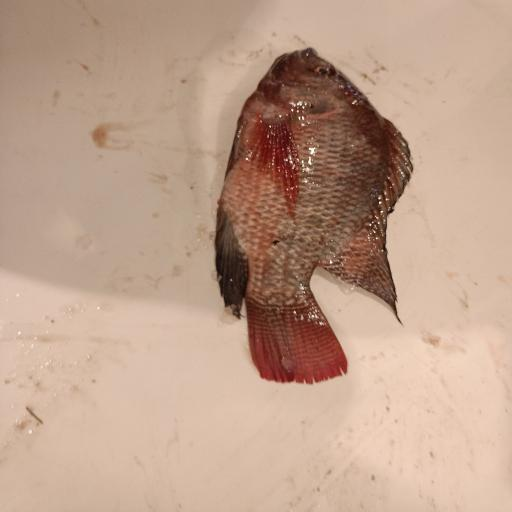Tilapia: (215, 47, 413, 385)
